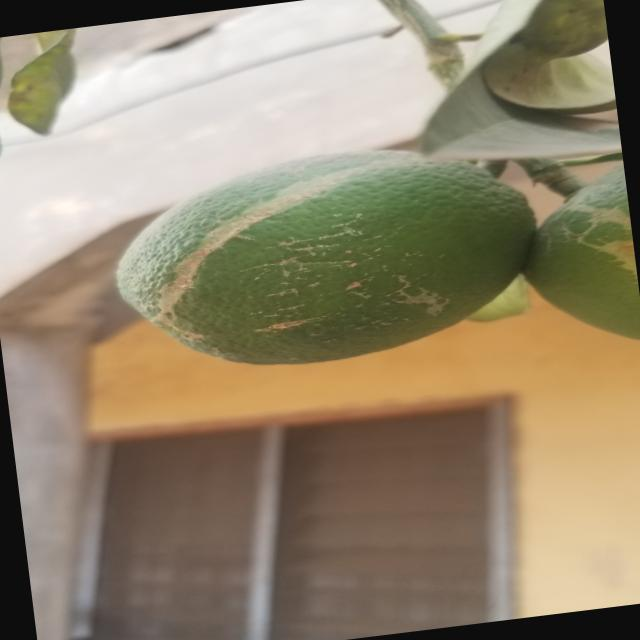Unripe: (112, 132, 546, 382), (482, 153, 638, 360)
